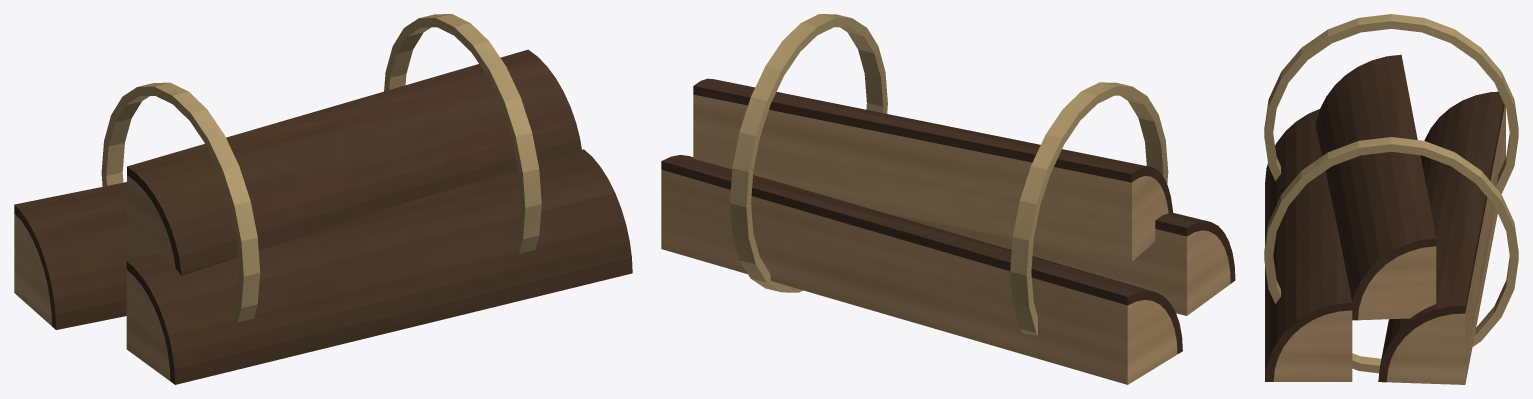
File: lenha.glb
3 renders of one model, left to right at view 1: azimuth 30°, elevation 25°; view 2: azimuth 150°, elevation 25°; view 3: azimuth 270°, elevation 25°, orthographic. The views are drawn at different scales.
Parts seen in each view (by area): view 1: lenha_casca, lenha_corda, lenha_madeira_crua; view 2: lenha_madeira_crua, lenha_casca, lenha_corda; view 3: lenha_casca, lenha_madeira_crua, lenha_corda.
Part boxes in pixels (x1,y1,x2,y2): lenha_casca: (14,49,632,384); lenha_corda: (101,14,541,322); lenha_madeira_crua: (14,175,175,381); lenha_madeira_crua: (661,94,1230,384); lenha_casca: (661,78,1235,353); lenha_corda: (730,14,1168,335); lenha_casca: (1265,54,1504,382); lenha_madeira_crua: (1273,106,1505,384); lenha_corda: (1264,14,1518,373).
Bounding box in the file's own units: 0.4244 × 0.21 × 0.21.
3 materials, 3 textured.
